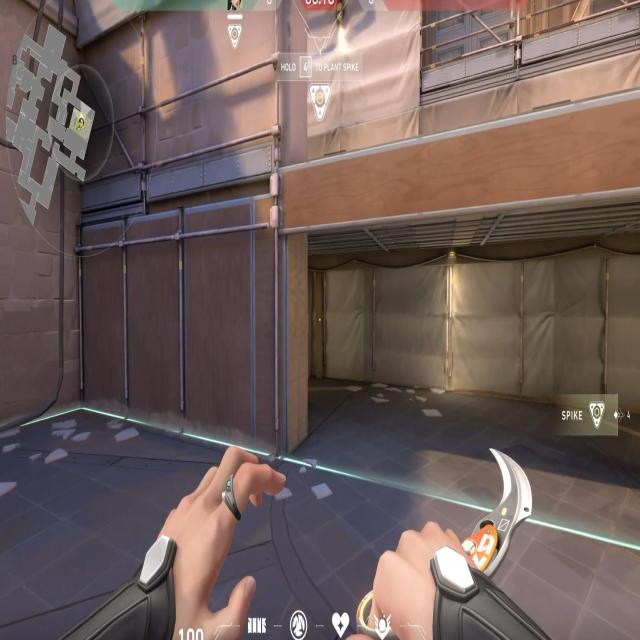A_Heaven_Wall: (47, 0, 307, 169)
A_Hell: (240, 122, 640, 492)
